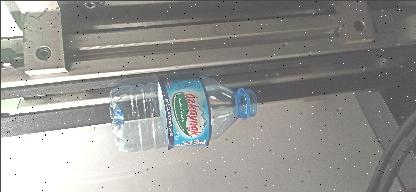Plastic Bottle: (108, 76, 256, 152)
